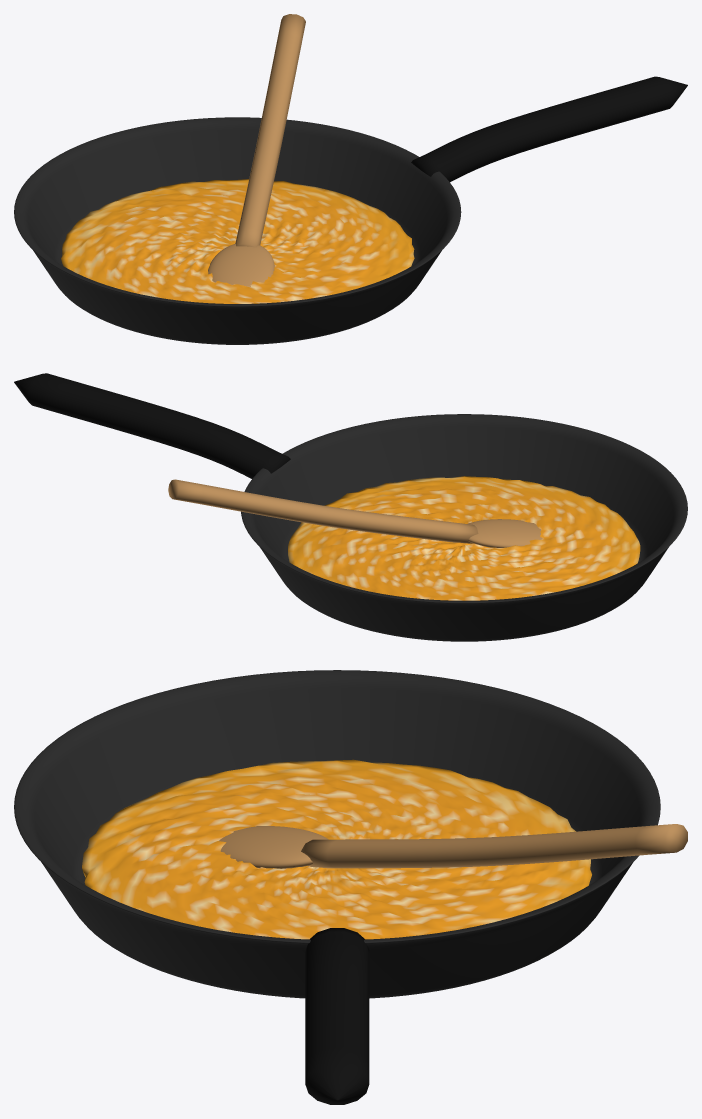
Rendered from paso-3.glb.
3 renders of one model, top to bottom at view 1: azimuth 30°, elevation 25°; view 2: azimuth 150°, elevation 25°; view 3: azimuth 270°, elevation 25°, orthographic. The views are drawn at different scales.
Visible parts, largest first — view 1: paso-3-0, paso-3-2, paso-3-1, paso-3-3, paso-3-4; view 2: paso-3-0, paso-3-2, paso-3-1, paso-3-3, paso-3-4; view 3: paso-3-0, paso-3-2, paso-3-3, paso-3-1, paso-3-4.
Boxes of the visible parts, x1,y1,x2,y2 form: paso-3-0: (14,117,461,344); paso-3-2: (61,179,414,303); paso-3-1: (411,76,687,181); paso-3-3: (235,14,305,247); paso-3-4: (208,243,274,286); paso-3-0: (241,414,687,641); paso-3-2: (288,476,640,600); paso-3-1: (14,373,290,478); paso-3-3: (168,479,478,543); paso-3-4: (468,519,542,547); paso-3-0: (14,670,660,998); paso-3-2: (82,759,591,939); paso-3-3: (301,824,687,868); paso-3-1: (305,928,369,1104); paso-3-4: (219,826,328,868).
Size of the model in its own units: 0.4219 by 0.0798 by 0.2646.
